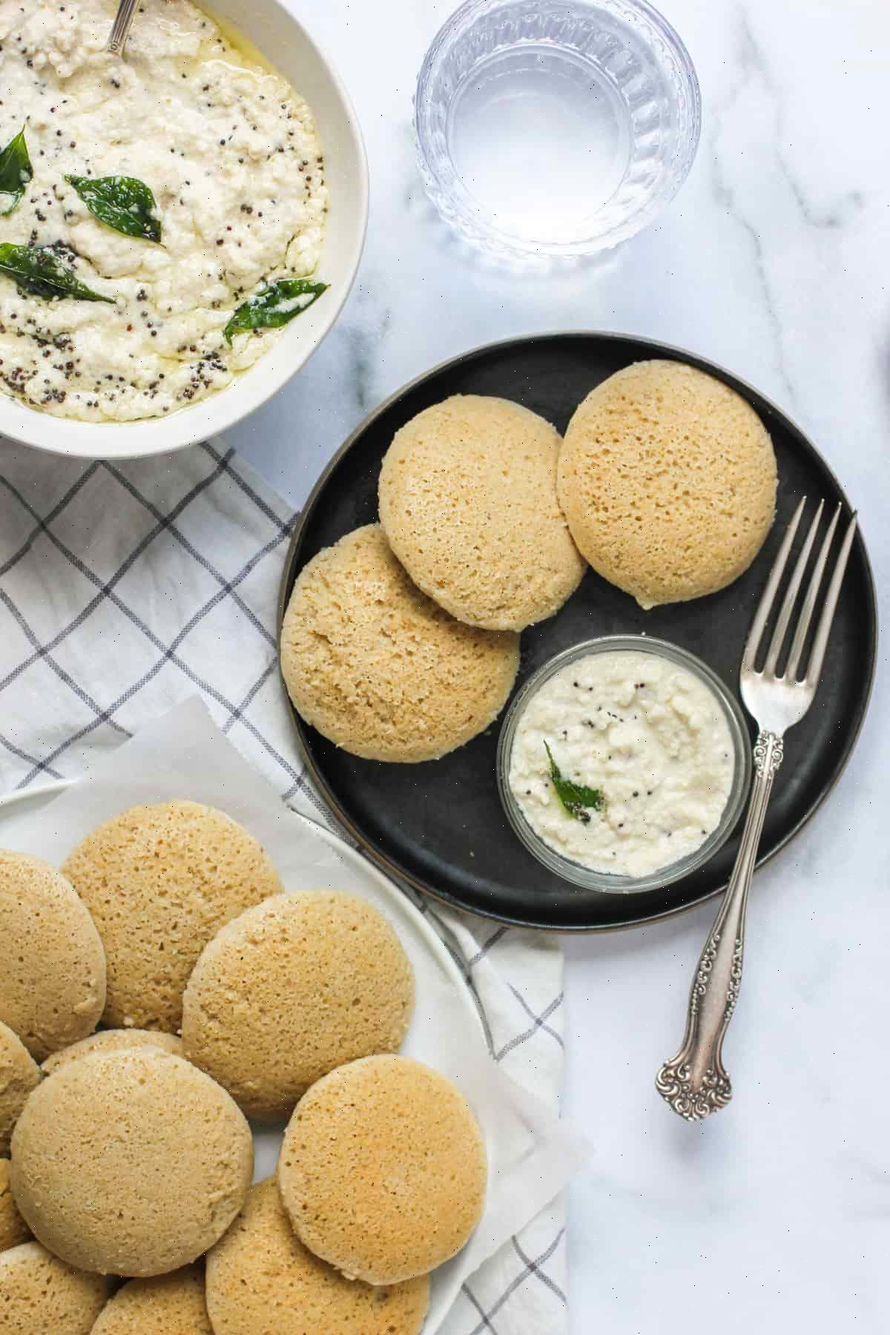coconut chutney: (0, 1, 245, 416), (535, 671, 721, 884)
idli: (16, 810, 421, 1335), (276, 405, 715, 651)
